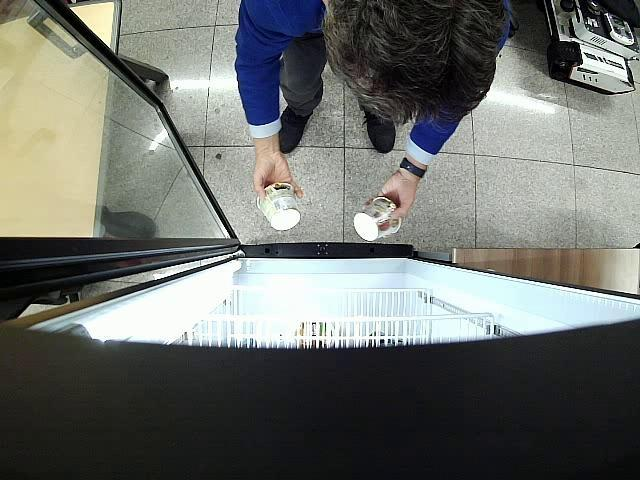04_chapagetti_S: (256, 184, 300, 232), (353, 198, 400, 241)
